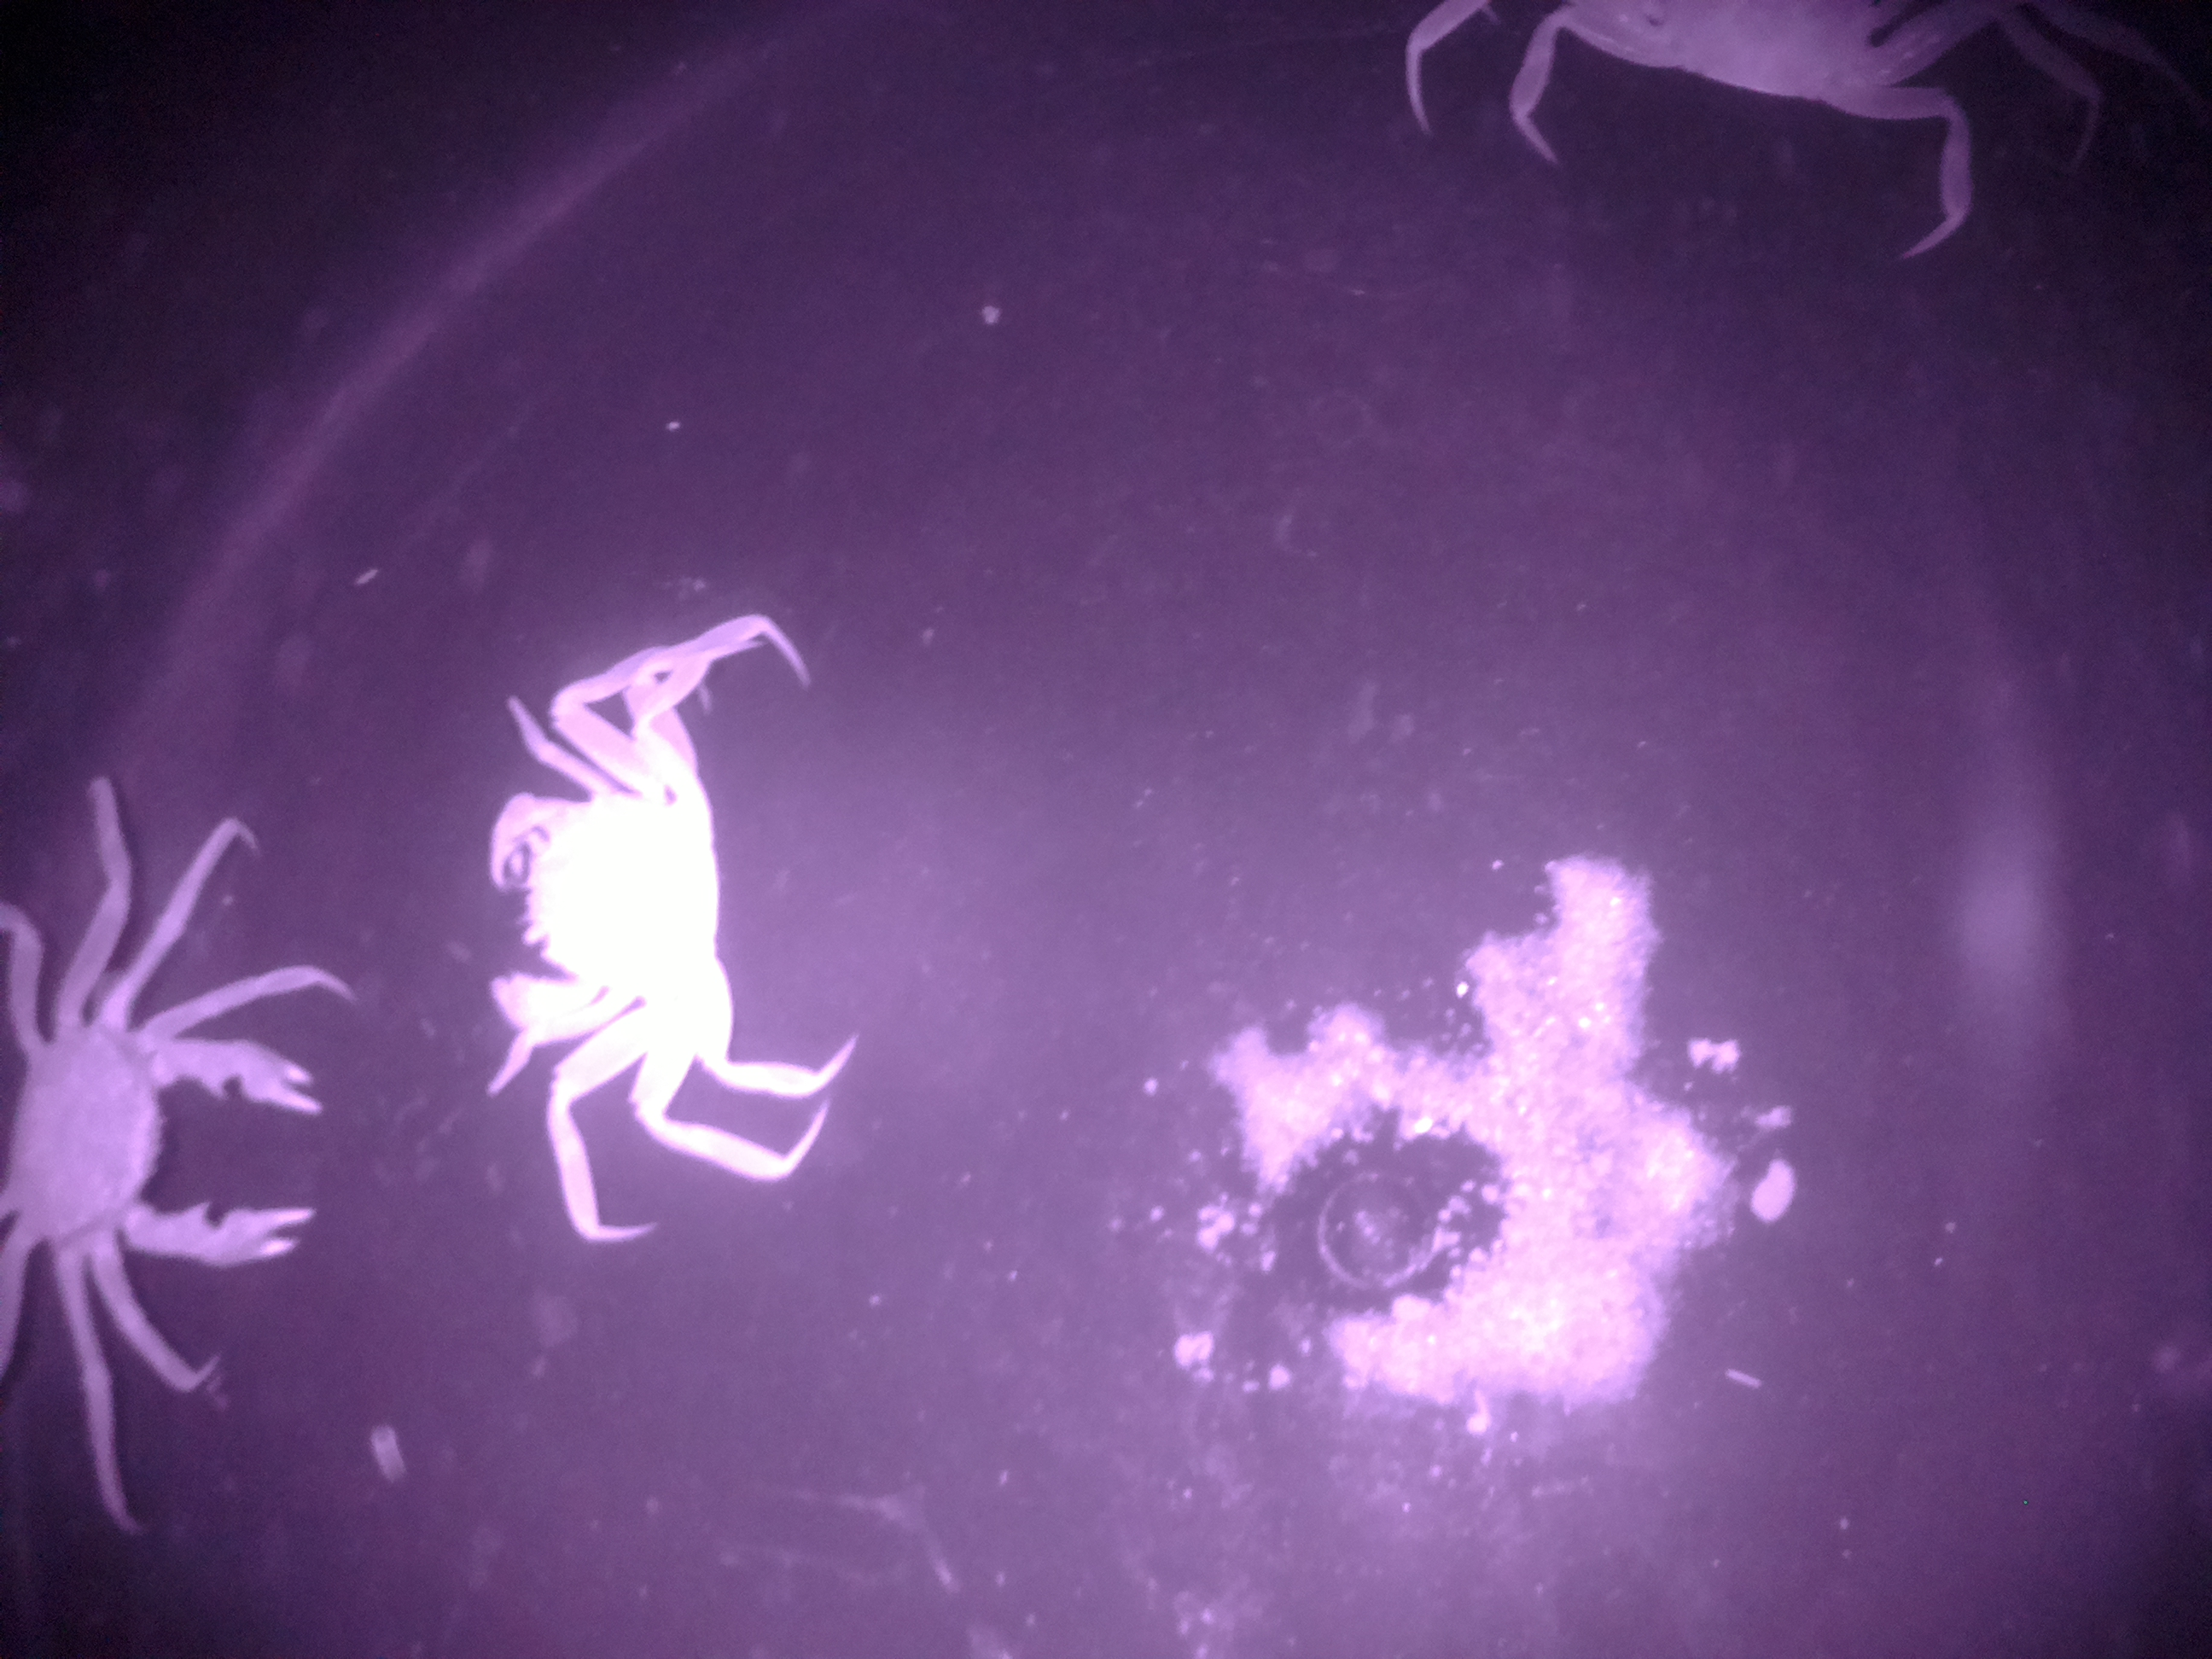Crab: (453, 587, 900, 1284), (0, 833, 357, 1401)
